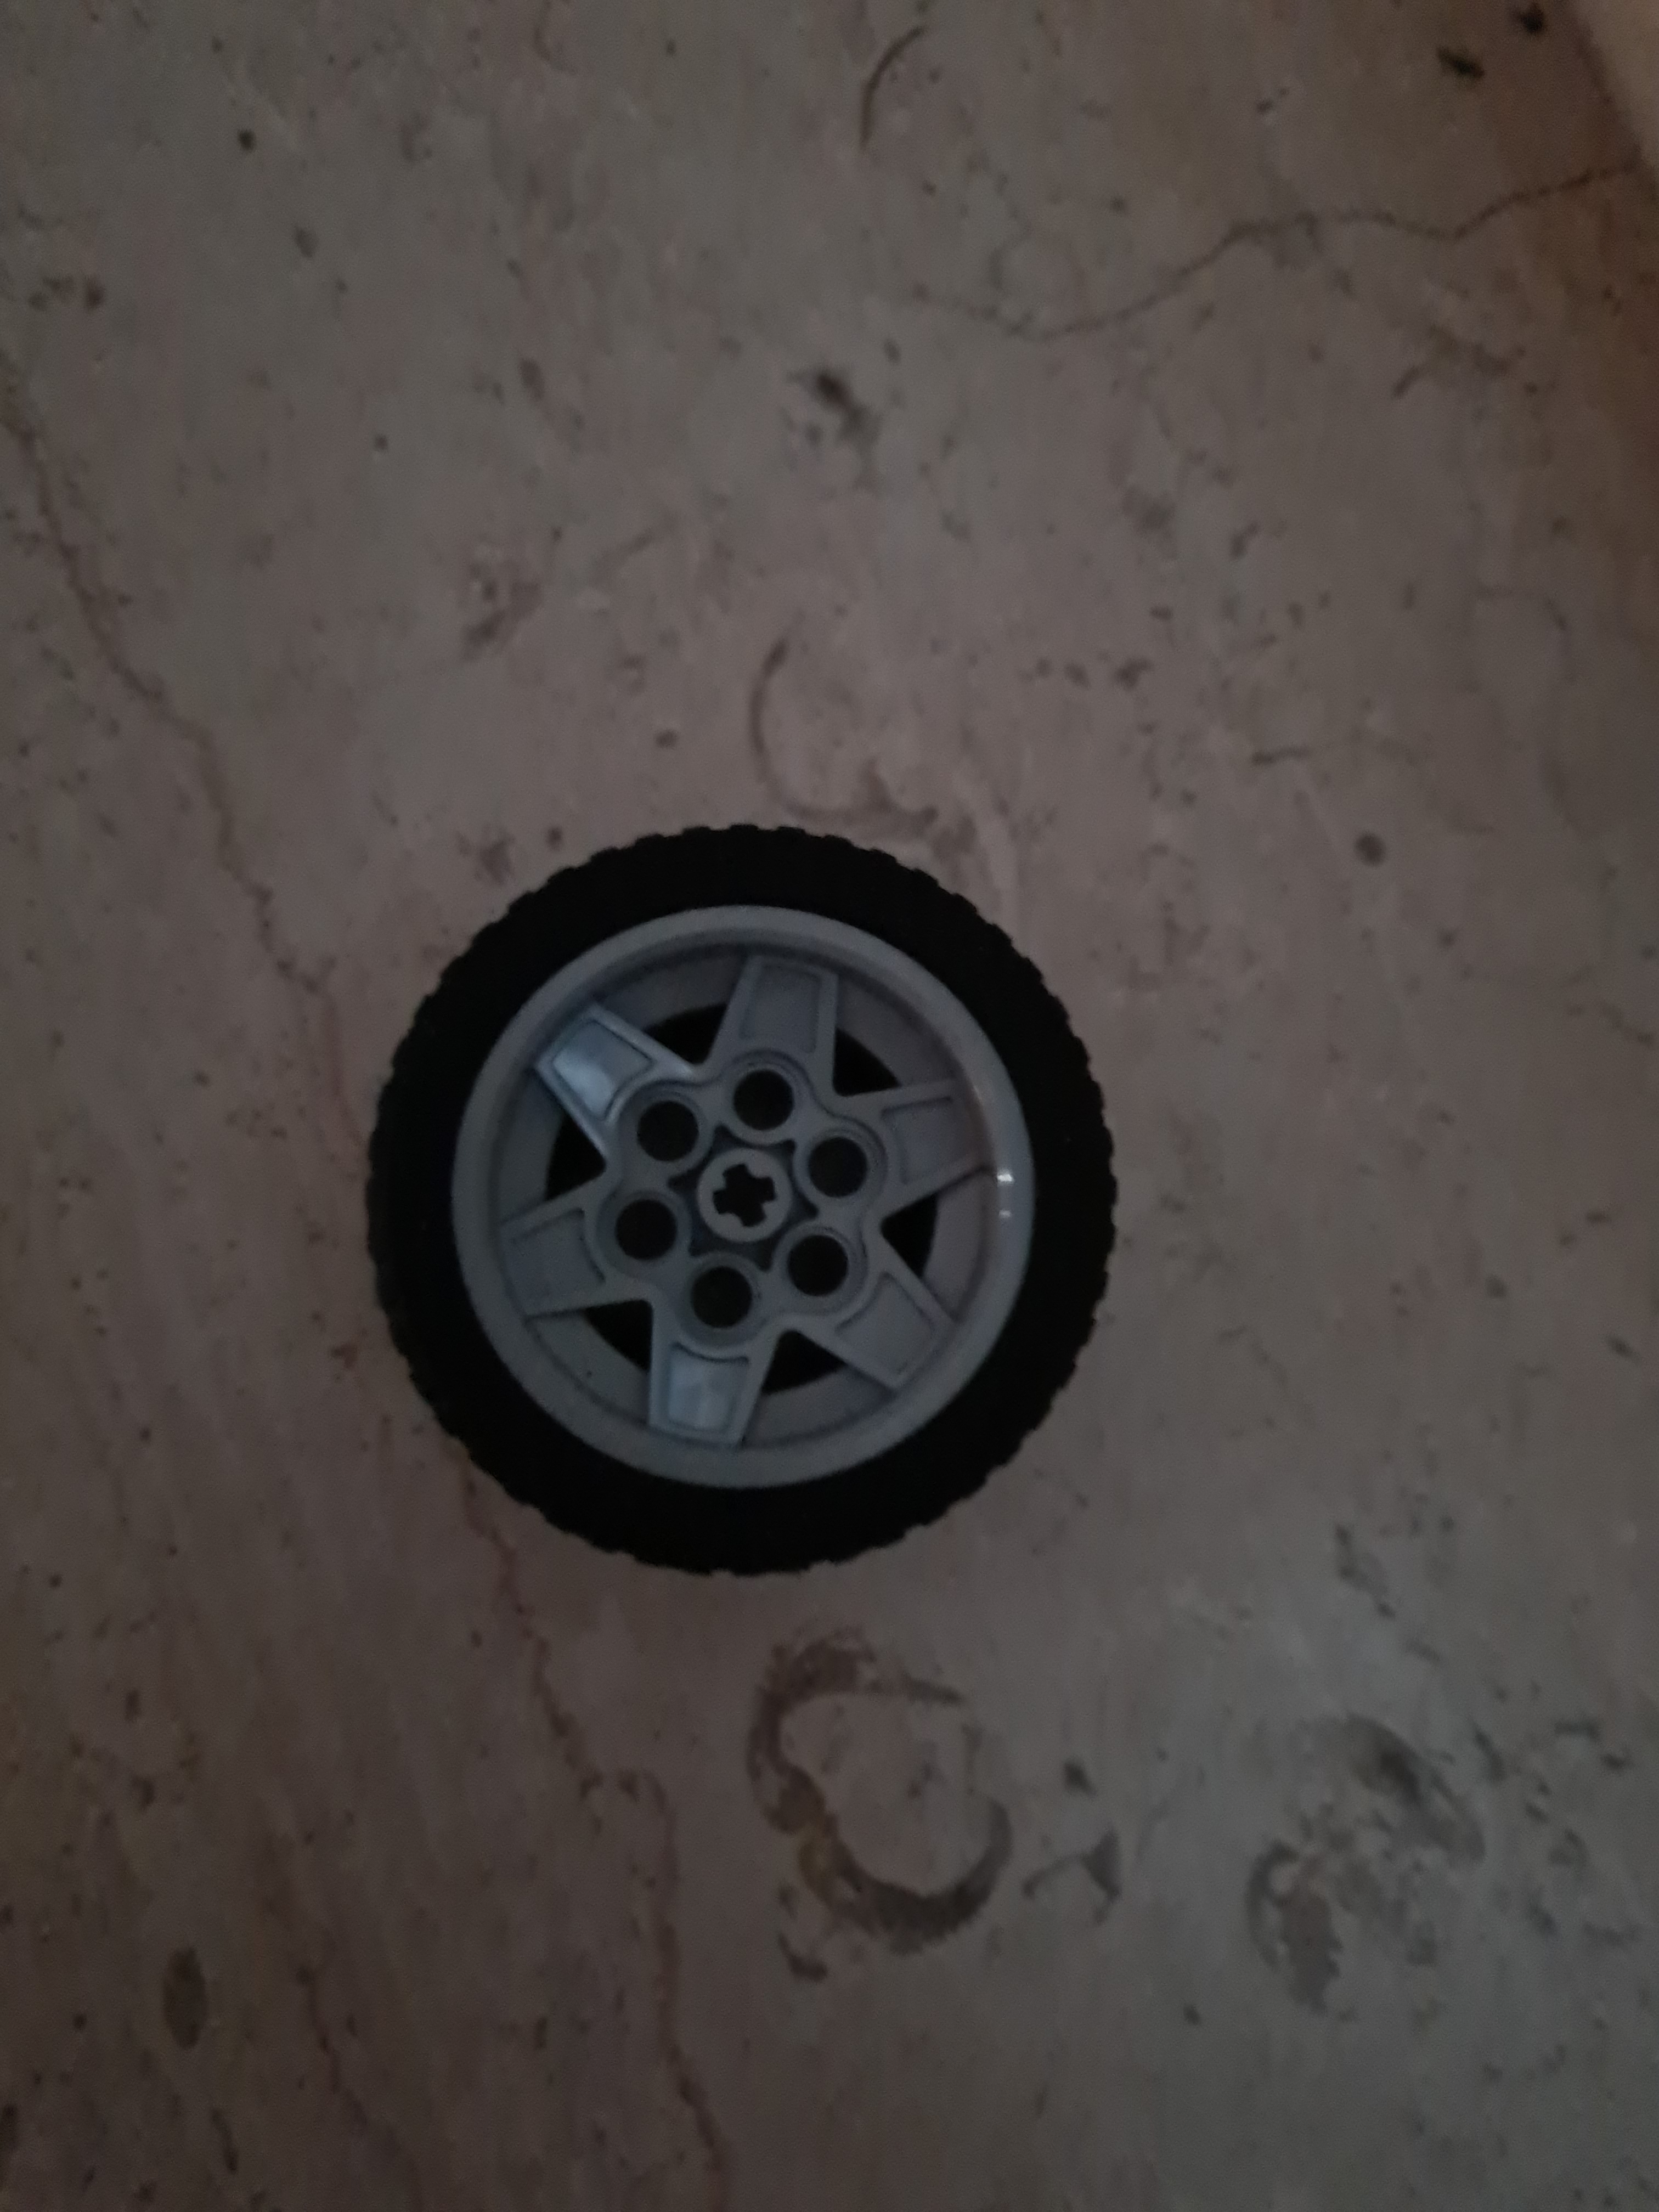Rad: (328, 782, 1138, 1595)
